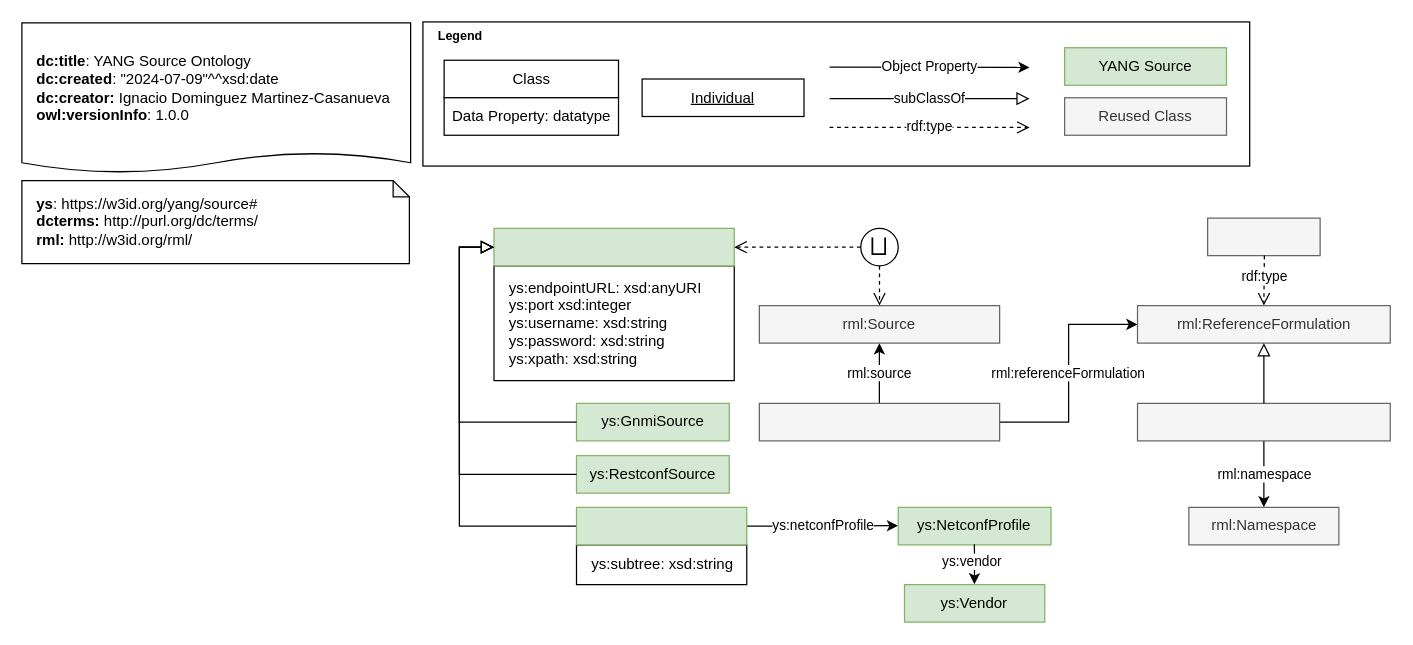
Image size: 1413x645. Some labels were removed from this diagram. The shapes that lost their labels are listed below. From the top down, each one's centre as x and y in pixels, then its label:
At (613,246): "ys:YangSource".
At (1263,236): "rml:XPath".
At (879,421): "rml:LogicalSource".
At (1263,421): "rml:XPathReferenceFormulation".
At (661,525): "ys:NetconfSource".
